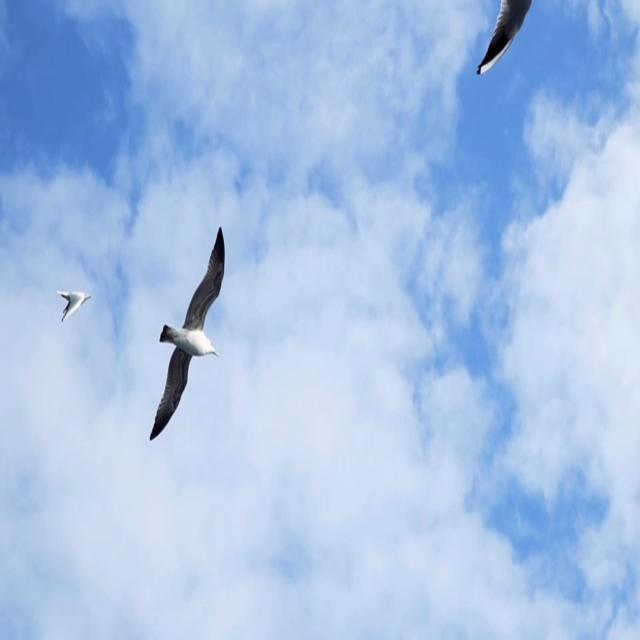bird: (129, 221, 270, 473), (22, 243, 102, 381), (428, 0, 554, 85)
